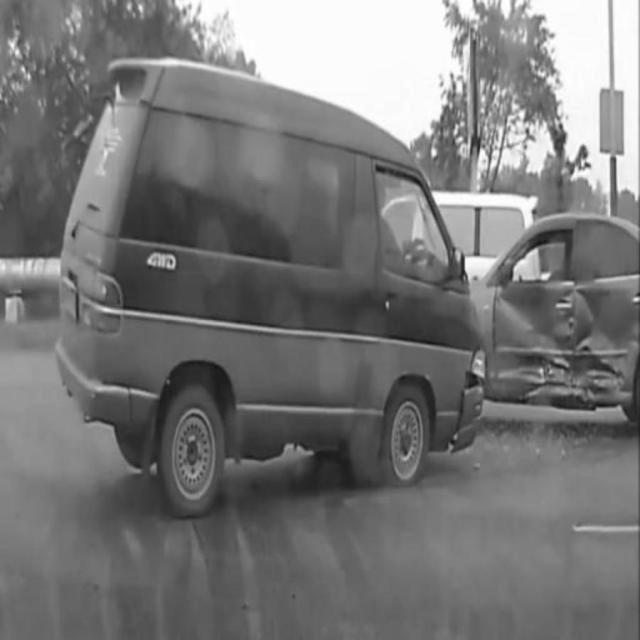accident: (58, 60, 639, 514)
